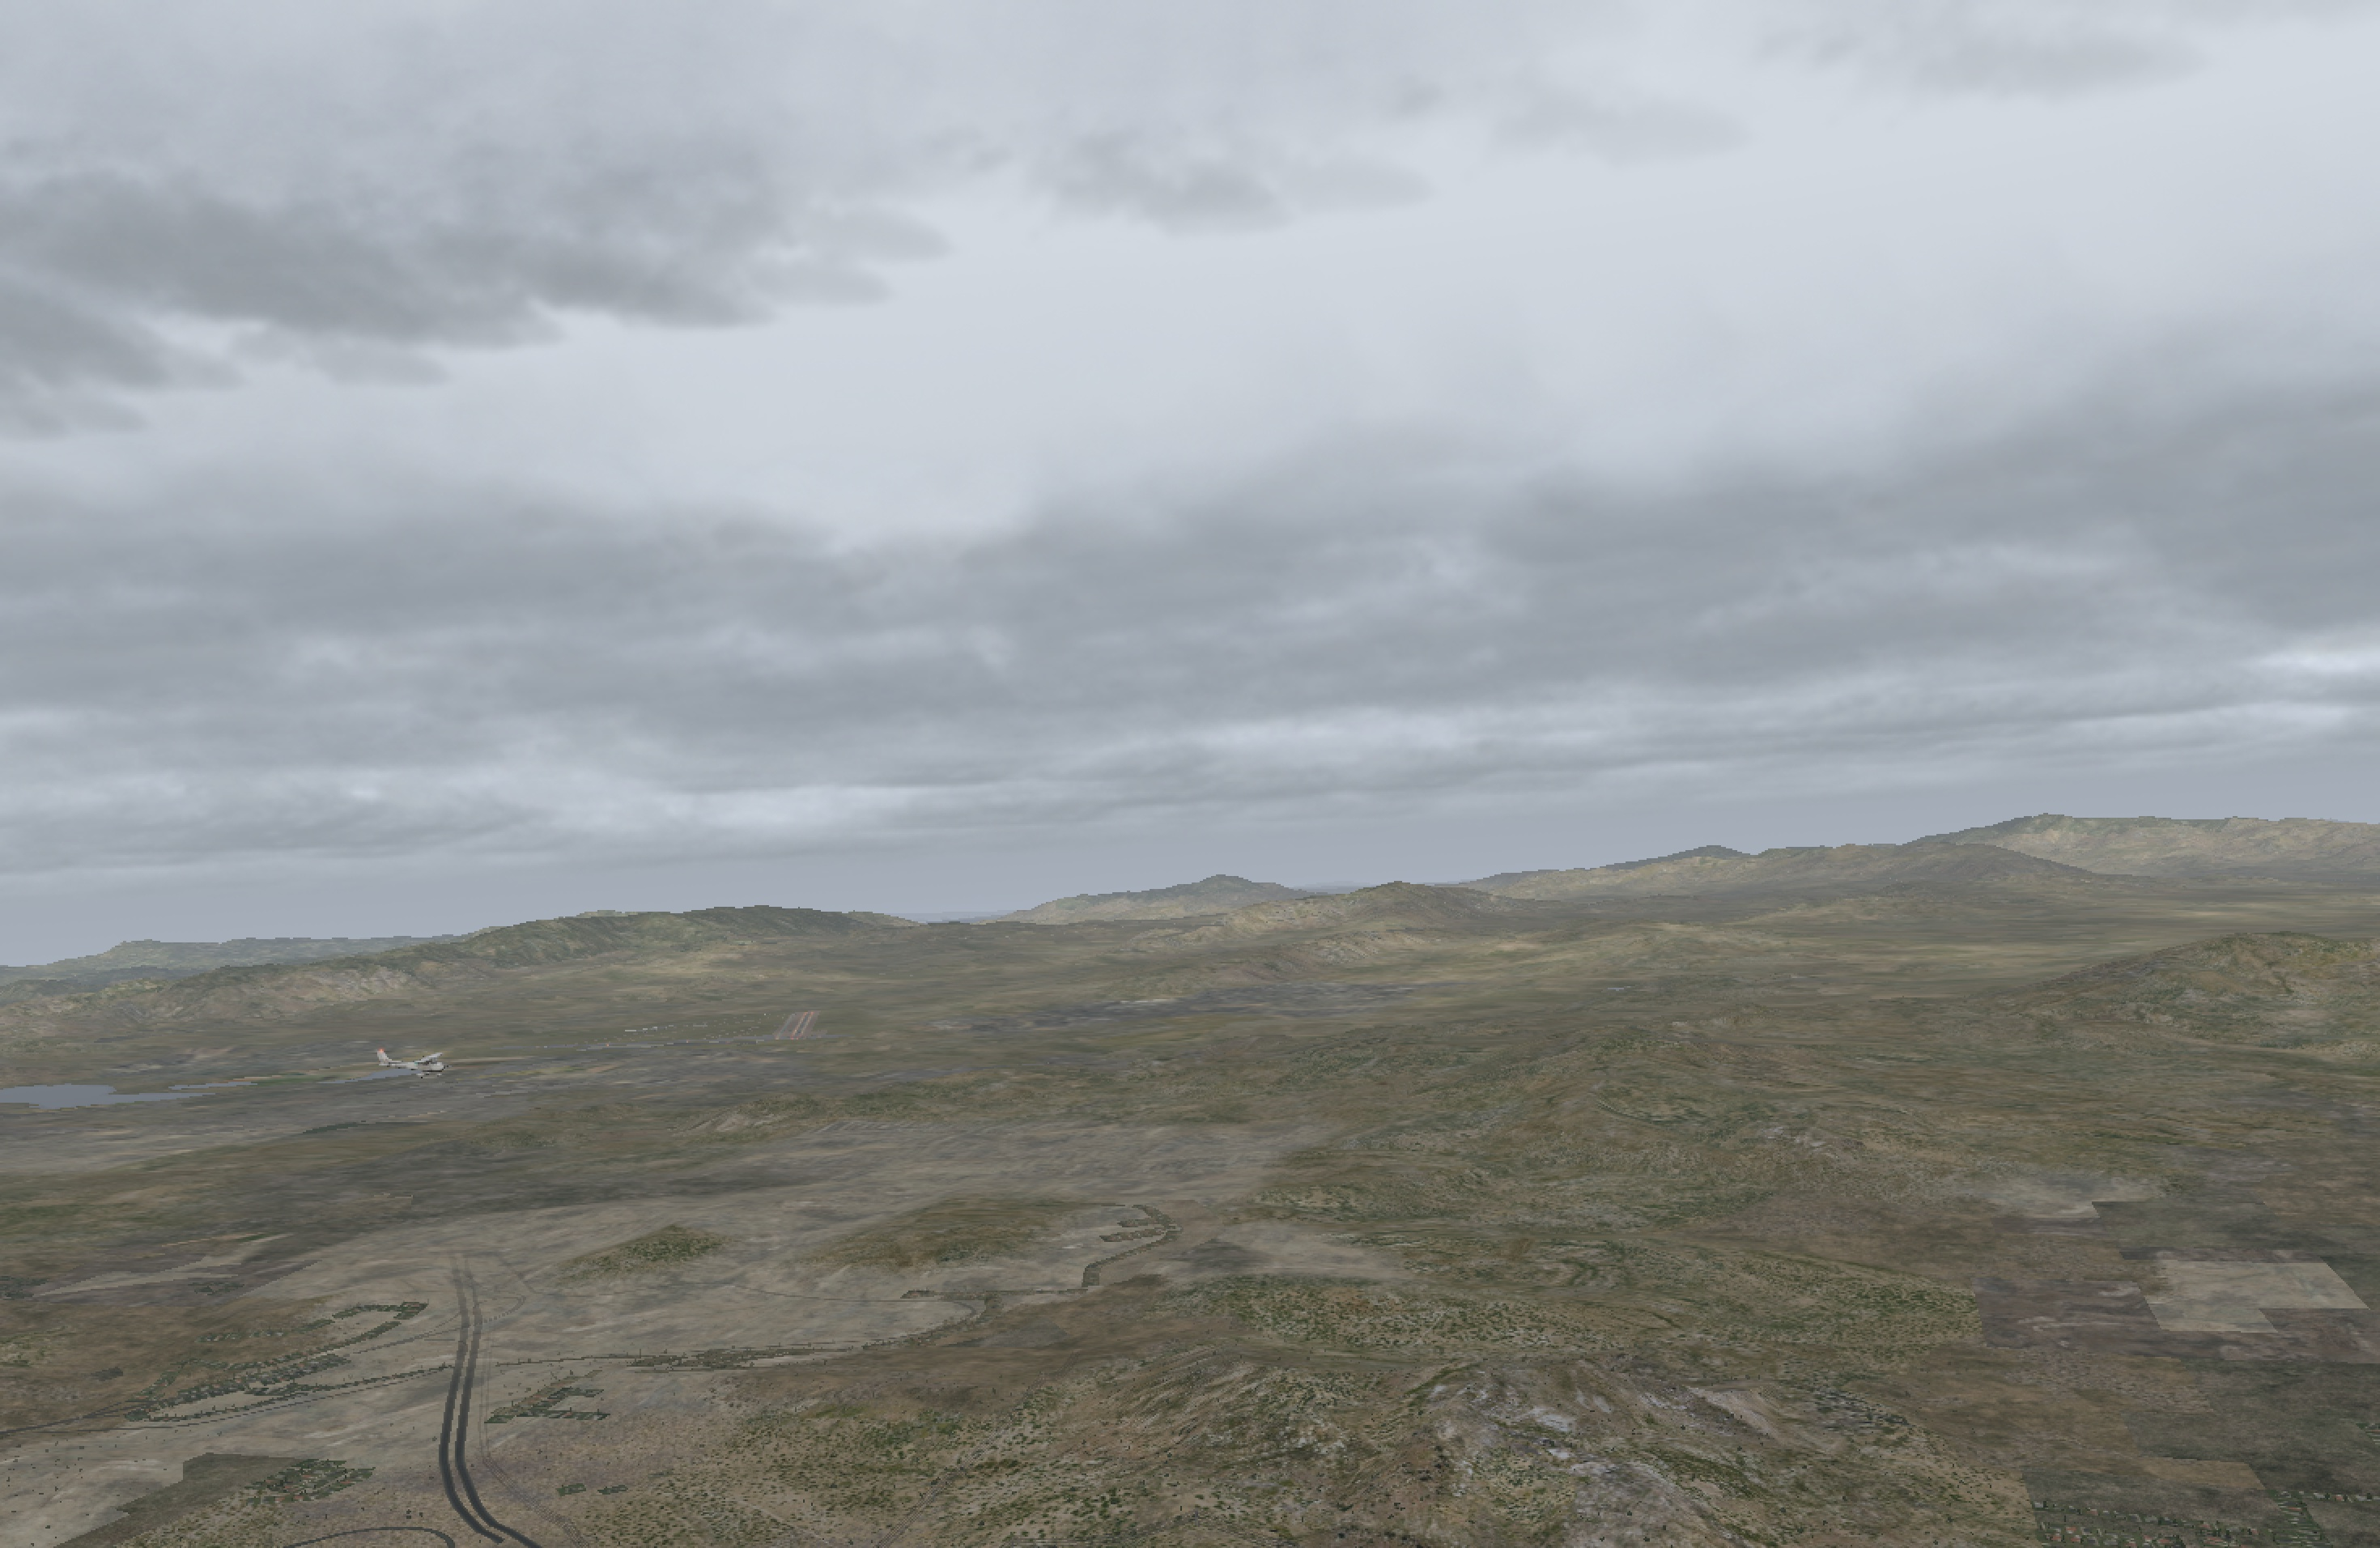aircraft: (396, 1052, 460, 1076)
